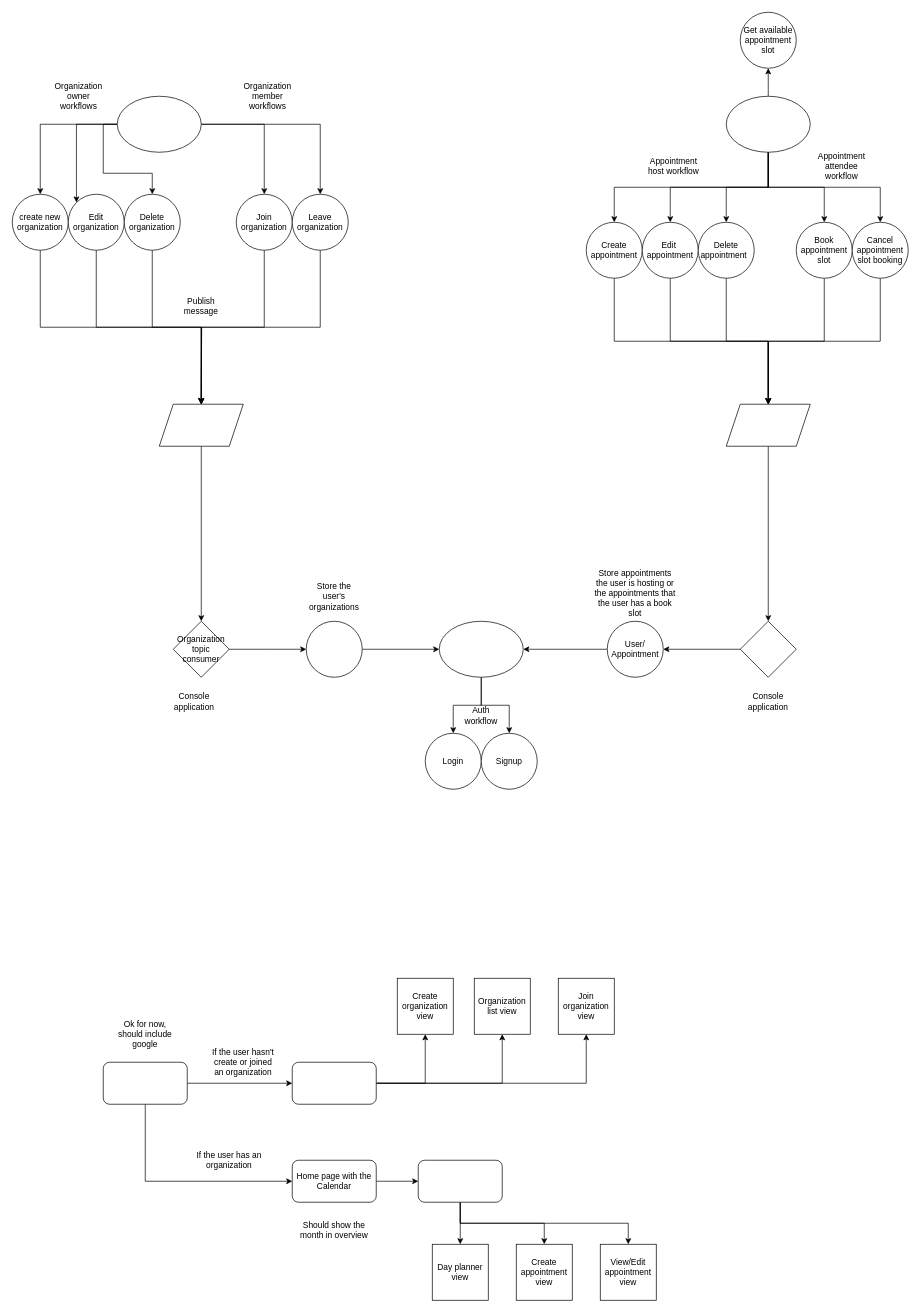
Image size: 921x1313. Some labels were removed from this diagram. Here are the shapes that lost their labels. From the top down, the box of each, then its label:
(117, 96, 201, 152): Organization API
(726, 96, 810, 152): Appointment API
(159, 404, 243, 446): RabbitMQ queue Organization
(726, 404, 810, 446): RabbitMQ queue Appointment
(306, 621, 362, 677): User/ Organization
(439, 621, 523, 677): User API
(740, 621, 796, 677): Appointment topic consumer
(103, 1062, 187, 1104): Landing page for login and sign up
(292, 1062, 376, 1104): Organization page
(418, 1160, 502, 1202): Modal for a calendar day
